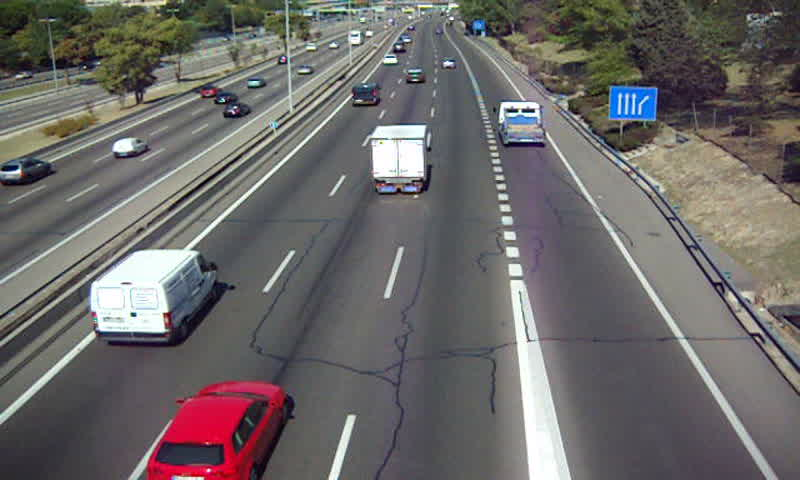car: (147, 380, 287, 480), (404, 68, 426, 86), (381, 53, 398, 67), (441, 58, 457, 70)
small-truck: (370, 124, 429, 195), (498, 101, 546, 143)
van: (89, 250, 217, 344), (350, 82, 381, 108)
